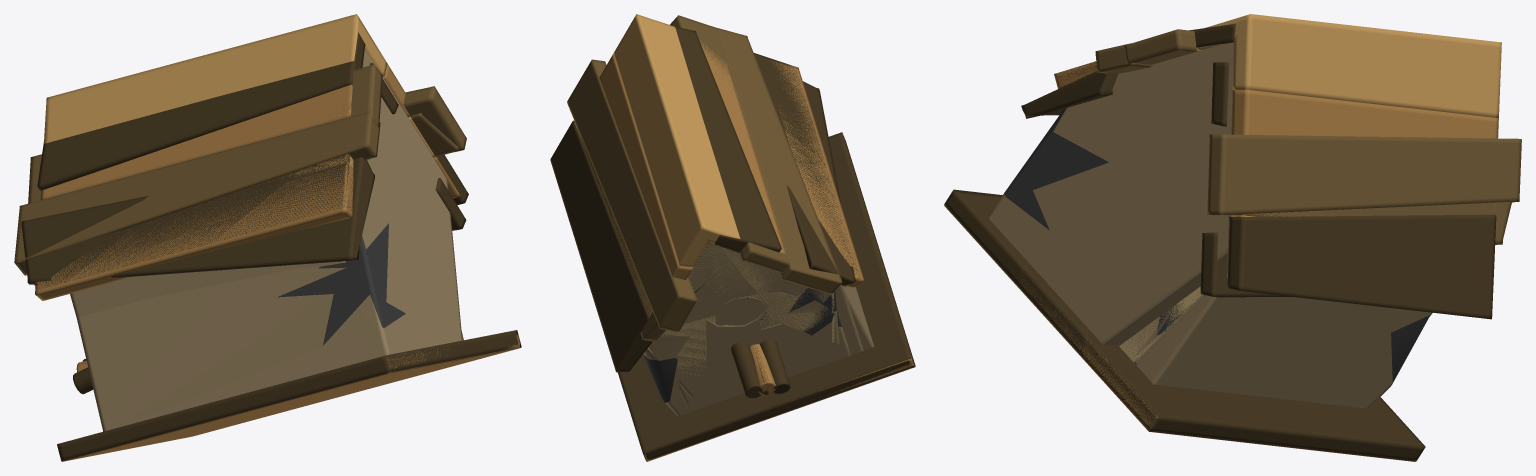
Rendered from 3DModel-Container.fbx.
3 renders of one model, left to right at view 1: azimuth 30°, elevation 25°; view 2: azimuth 150°, elevation 25°; view 3: azimuth 270°, elevation 25°, orthographic. The views are drawn at different scales.
Parts seen in each view (by area): view 1: F_BirdHouse02, A_BirdHouse, F_BirdHouse03, C_BirdHouse01, C_BirdHouse02, F_BirdHouse01; view 2: F_BirdHouse02, A_BirdHouse, C_BirdHouse01, F_BirdHouse01, F_BirdHouse03, C_BirdHouse03, C_BirdHouse02; view 3: F_BirdHouse02, A_BirdHouse, F_BirdHouse01, F_BirdHouse03, C_BirdHouse02, C_BirdHouse01.
Boxes of the visible parts, x1,y1,x2,y2 form: F_BirdHouse02: (14,32,468,431); A_BirdHouse: (35,14,521,461); F_BirdHouse03: (21,63,520,460); C_BirdHouse01: (28,64,382,365); C_BirdHouse02: (408,113,459,157); F_BirdHouse01: (73,330,521,394); F_BirdHouse02: (550,26,914,461); A_BirdHouse: (574,14,914,461); C_BirdHouse01: (647,15,860,397); F_BirdHouse01: (617,132,910,459); F_BirdHouse03: (643,81,915,451); C_BirdHouse03: (662,244,834,405); C_BirdHouse02: (576,125,826,347); F_BirdHouse02: (955,23,1521,446); A_BirdHouse: (944,14,1501,461); F_BirdHouse01: (957,191,1432,461); F_BirdHouse03: (944,62,1420,441); C_BirdHouse02: (1119,201,1511,362); C_BirdHouse01: (1058,29,1203,364).
Bounding box in the file's own units: 452 × 456 × 483.
